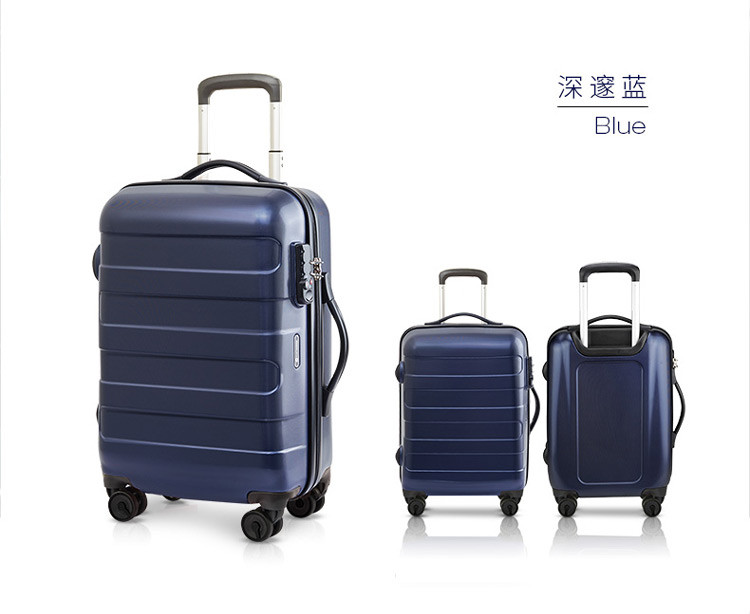luggage: (92, 72, 350, 542), (396, 267, 541, 519), (541, 264, 686, 516)
